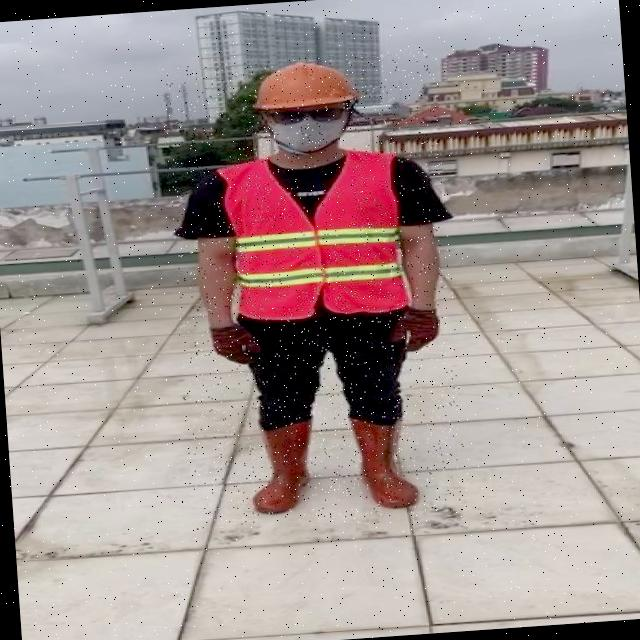boots: (348, 412, 422, 512), (245, 419, 315, 515)
helmet: (250, 54, 364, 114)
vest: (218, 150, 408, 322)
